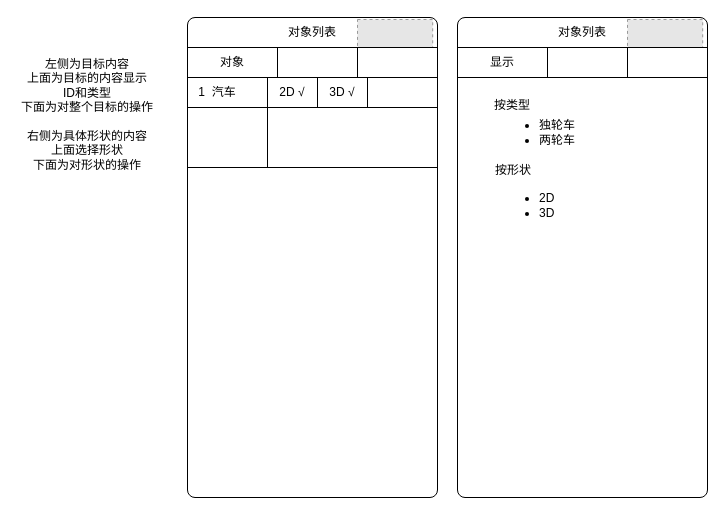
Image size: 725x515. Some labels were removed from this diagram. Grey dashed boxes stand in for pictures. Here are the shapes that lost their labels. From the top down, the box of each, then its label:
(186, 106, 268, 168): 显示 删除
(266, 106, 438, 168): 操作： 清空、绘制等按钮
